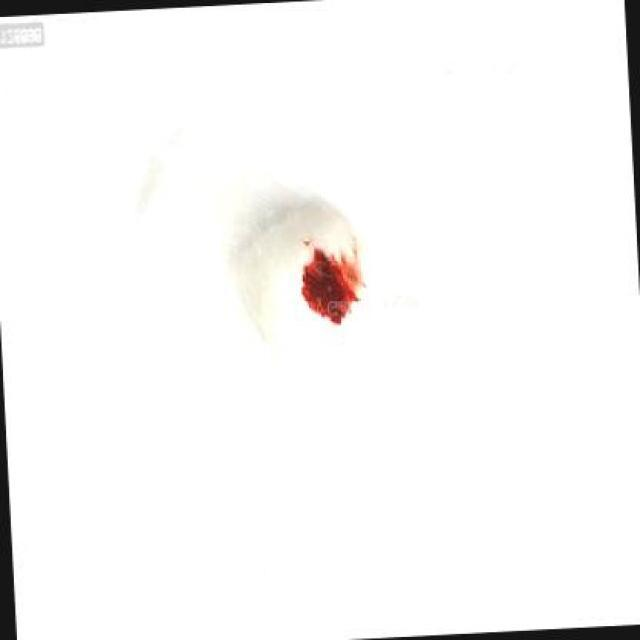wound: (294, 245, 376, 328)
